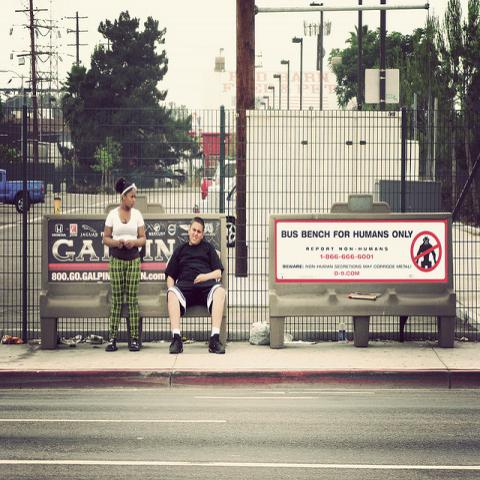car: (202, 162, 236, 200), (225, 178, 240, 248), (193, 190, 219, 215)
truck: (0, 169, 45, 213)
